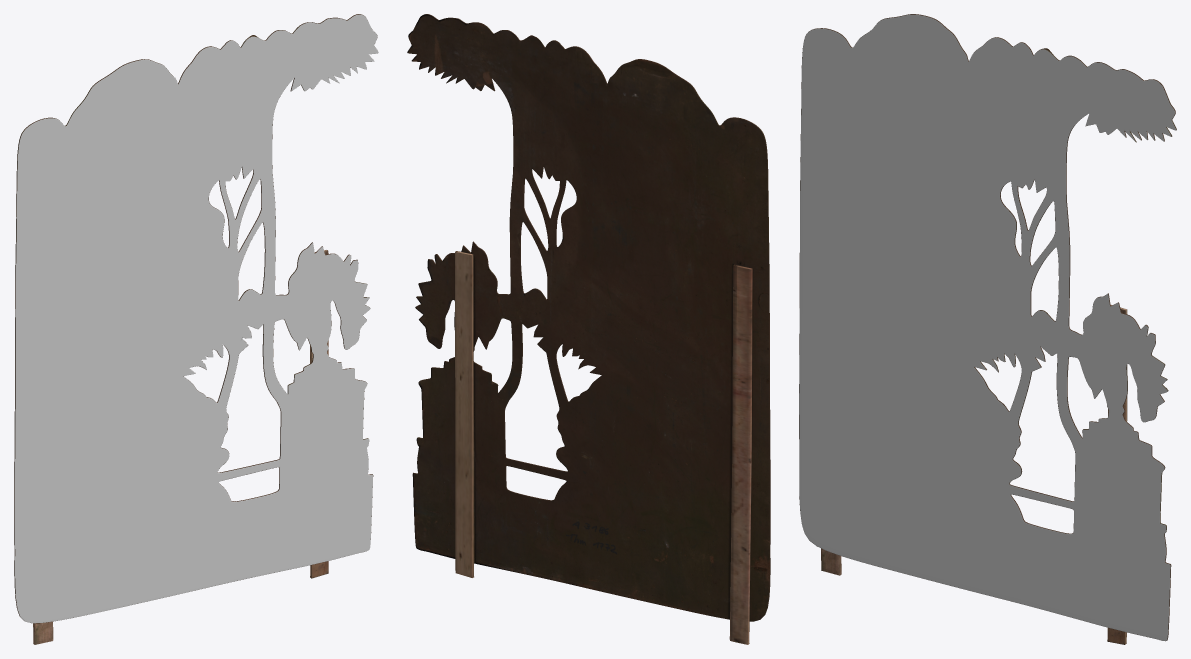
3 views of the same model, side by side, from view 1: azimuth 30°, elevation 25°; view 2: azimuth 150°, elevation 25°; view 3: azimuth 330°, elevation 25° (orthographic). The views are drawn at different scales.
Visible parts, largest first — view 1: A3186; view 2: A3186, stick2, stick1; view 3: A3186.
Boxes of the visible parts, x1=… form: A3186: x1=14, y1=14, x2=378, y2=623; A3186: x1=407, y1=14, x2=770, y2=621; stick2: x1=729, y1=264, x2=752, y2=644; stick1: x1=455, y1=251, x2=473, y2=577; A3186: x1=799, y1=14, x2=1176, y2=641.
Size of the model in its own units: 69.74 by 103 by 0.7494.
